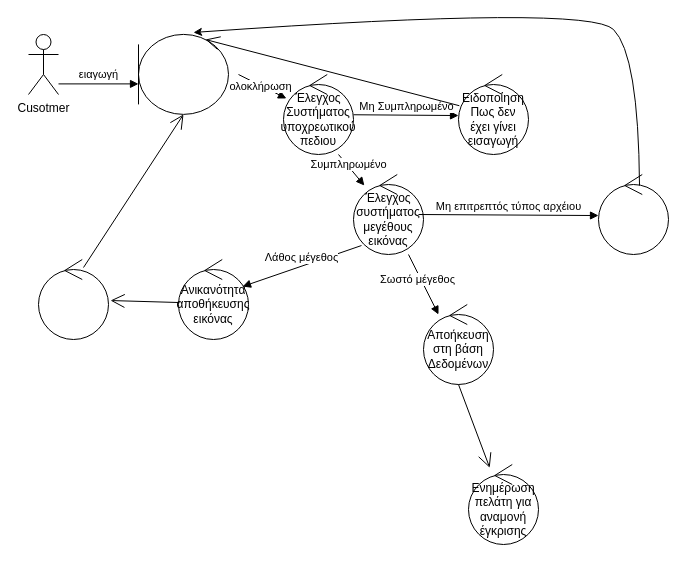
Some shapes in this 686 by 562 pixel diagram are drawn without their labels. The centre of each missing label's shape, as x and y in pixels:
"Εισοποιήση χρήστη για λάθος τύπο αρχείων" goes at (x=633, y=214).
"Ενημέρωση πελάτη για το λάθος μέγεθος της εικόνας" goes at (x=73, y=299).
"πεδίο ταυτότητας" goes at (x=183, y=73).
